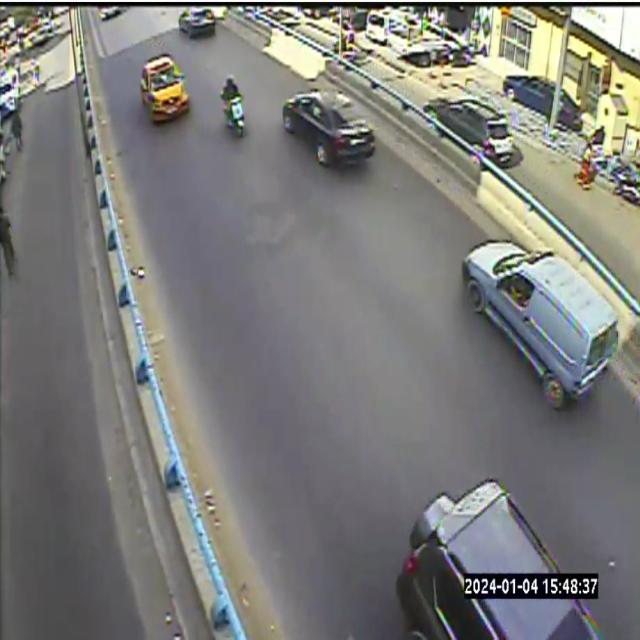car: (397, 479, 599, 639), (462, 240, 617, 408), (282, 90, 375, 166), (141, 54, 190, 122), (179, 7, 216, 38)
